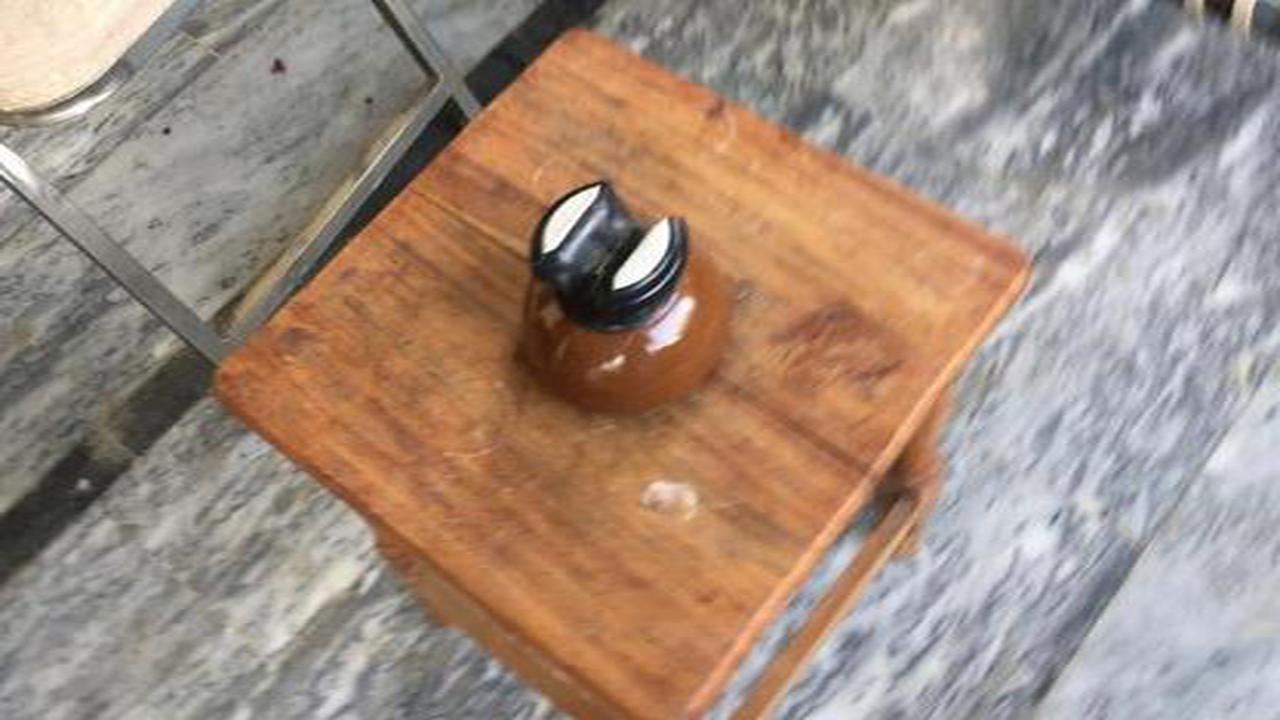insulator_pin: (481, 170, 767, 437)
